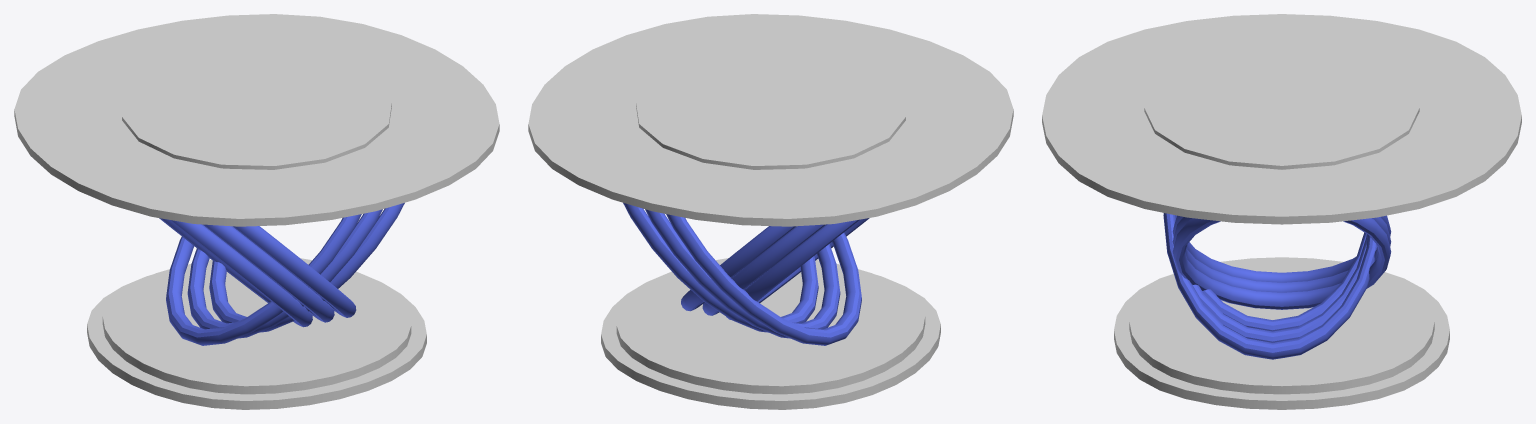
Rendered from model_table_modern_01.fbx.
3 views of the same model, side by side, from view 1: azimuth 30°, elevation 25°; view 2: azimuth 150°, elevation 25°; view 3: azimuth 270°, elevation 25° (orthographic).
Visible parts, largest first — view 1: Plane.018; view 2: Plane.018; view 3: Plane.018.
Part boxes in pixels (x1,y1,x2,y2): Plane.018: (14,14,499,409); Plane.018: (528,14,1013,409); Plane.018: (1042,14,1521,409).
Size of the model in its own units: 179 by 95.25 by 179.
